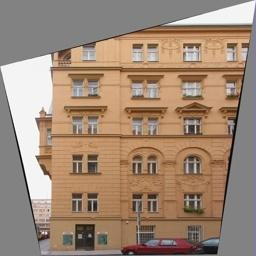building: (49, 23, 251, 251)
